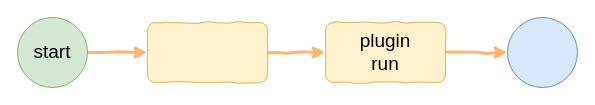
The diagram is 595 pixels wide and 105 high, and some of its shapes have lost their labels. The centre of each missing label's shape, as x and y in pixels:
"finish" goes at point (542, 52).
"plugin config" goes at point (207, 52).
